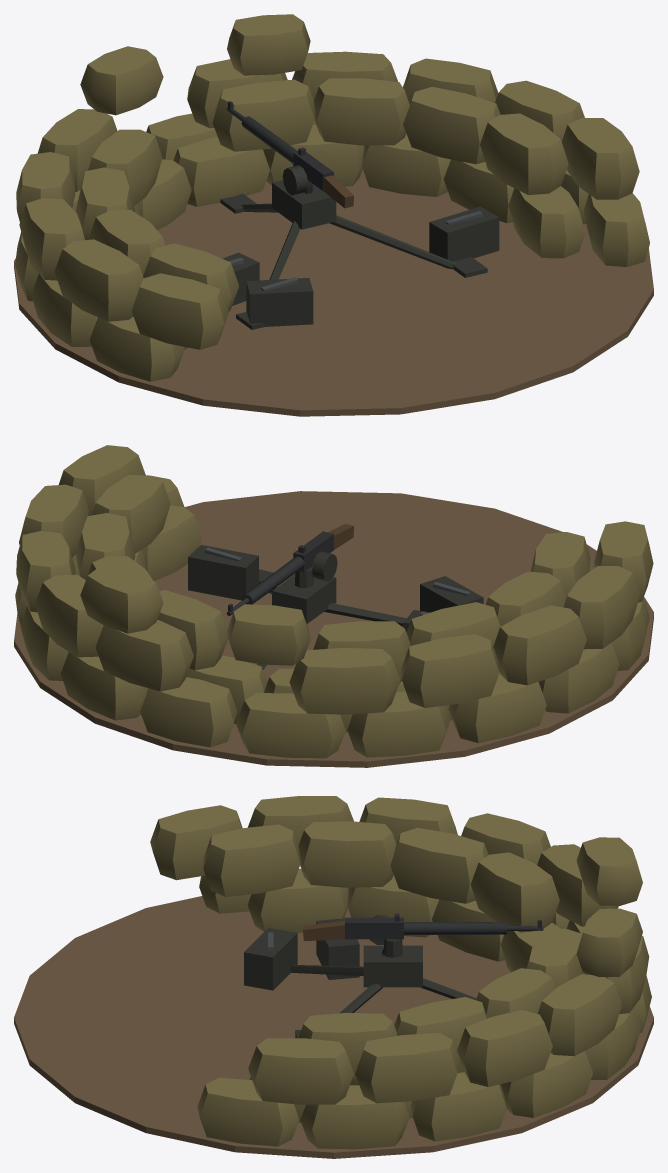
The model's file is mg_nest.glb.
3 views of the same model, one above another, from view 1: azimuth 30°, elevation 25°; view 2: azimuth 150°, elevation 25°; view 3: azimuth 270°, elevation 25° (orthographic).
Visible parts, largest first — view 1: mg_nest; view 2: mg_nest; view 3: mg_nest.
Part boxes in pixels (bbox=[...]): mg_nest: bbox=[14, 14, 653, 416]; mg_nest: bbox=[14, 445, 653, 767]; mg_nest: bbox=[14, 796, 653, 1158].
Bounding box in the file's own units: 3.24 × 0.761 × 3.24.
